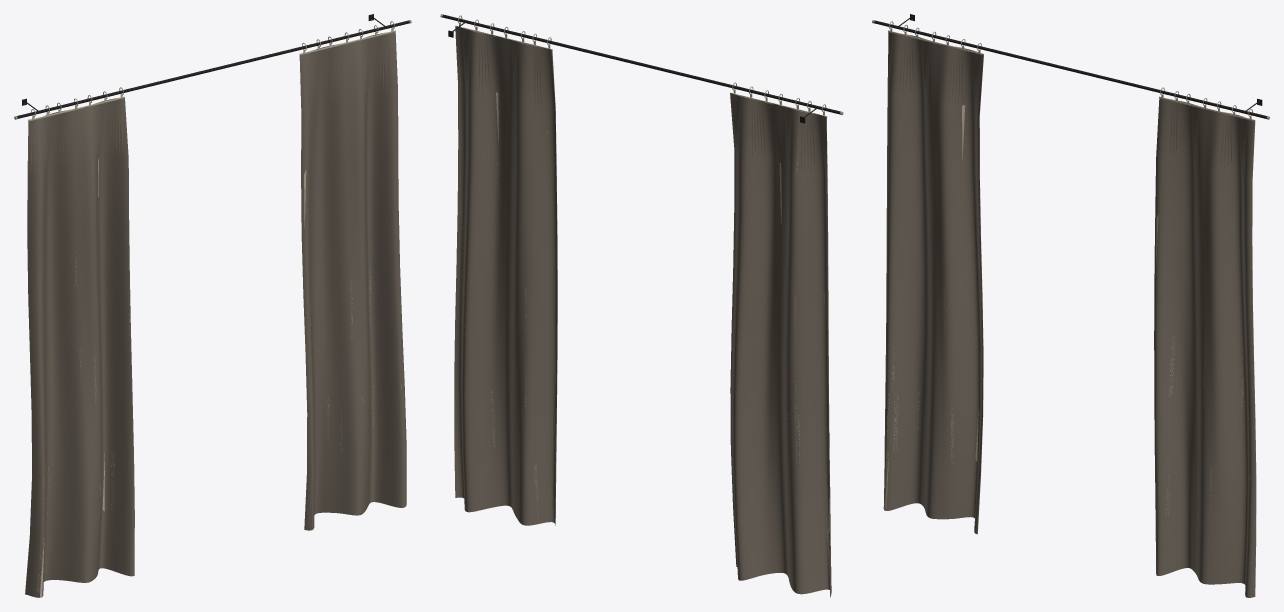
The model's file is bedroom-curtain-pair-17e6f84dffe0.glb.
The picture shows the model from 3 angles, left to right: view 1: azimuth 30°, elevation 25°; view 2: azimuth 150°, elevation 25°; view 3: azimuth 330°, elevation 25°; orthographic projection.
Visible parts, largest first — view 1: cover-cloth, cloth-cream, enamel-black; view 2: cover-cloth, cloth-cream, enamel-black; view 3: cover-cloth, cloth-cream, enamel-black.
Boxes of the visible parts, left/top/right/bottom form: cover-cloth: left=25, top=32, right=406, bottom=597; cloth-cream: left=25, top=28, right=401, bottom=597; enamel-black: left=17, top=14, right=409, bottom=118; cover-cloth: left=454, top=26, right=831, bottom=597; cloth-cream: left=455, top=22, right=829, bottom=573; enamel-black: left=442, top=14, right=840, bottom=123; cover-cloth: left=883, top=32, right=1256, bottom=597; cloth-cream: left=884, top=28, right=1256, bottom=587; enamel-black: left=874, top=14, right=1266, bottom=118.
Bounding box in the file's own units: 2.4 × 2.8 × 0.2411.
